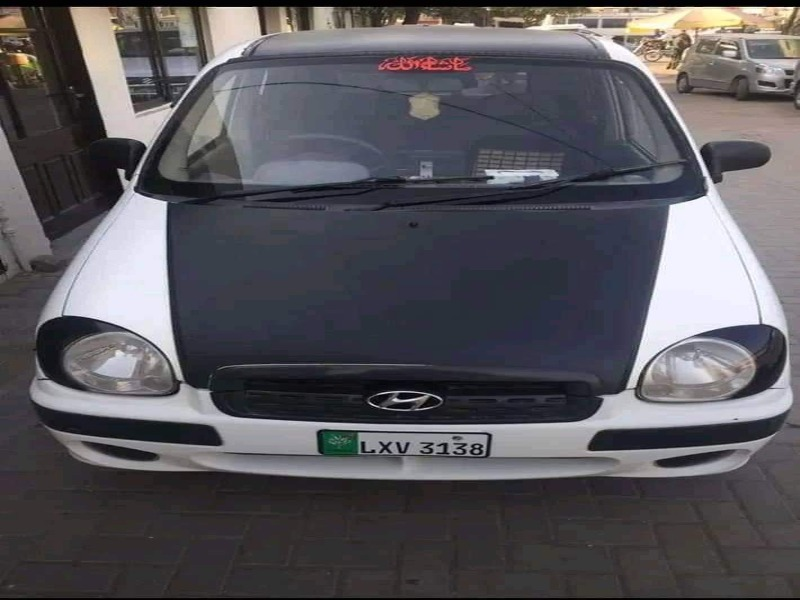License Plate: (314, 423, 496, 464)
